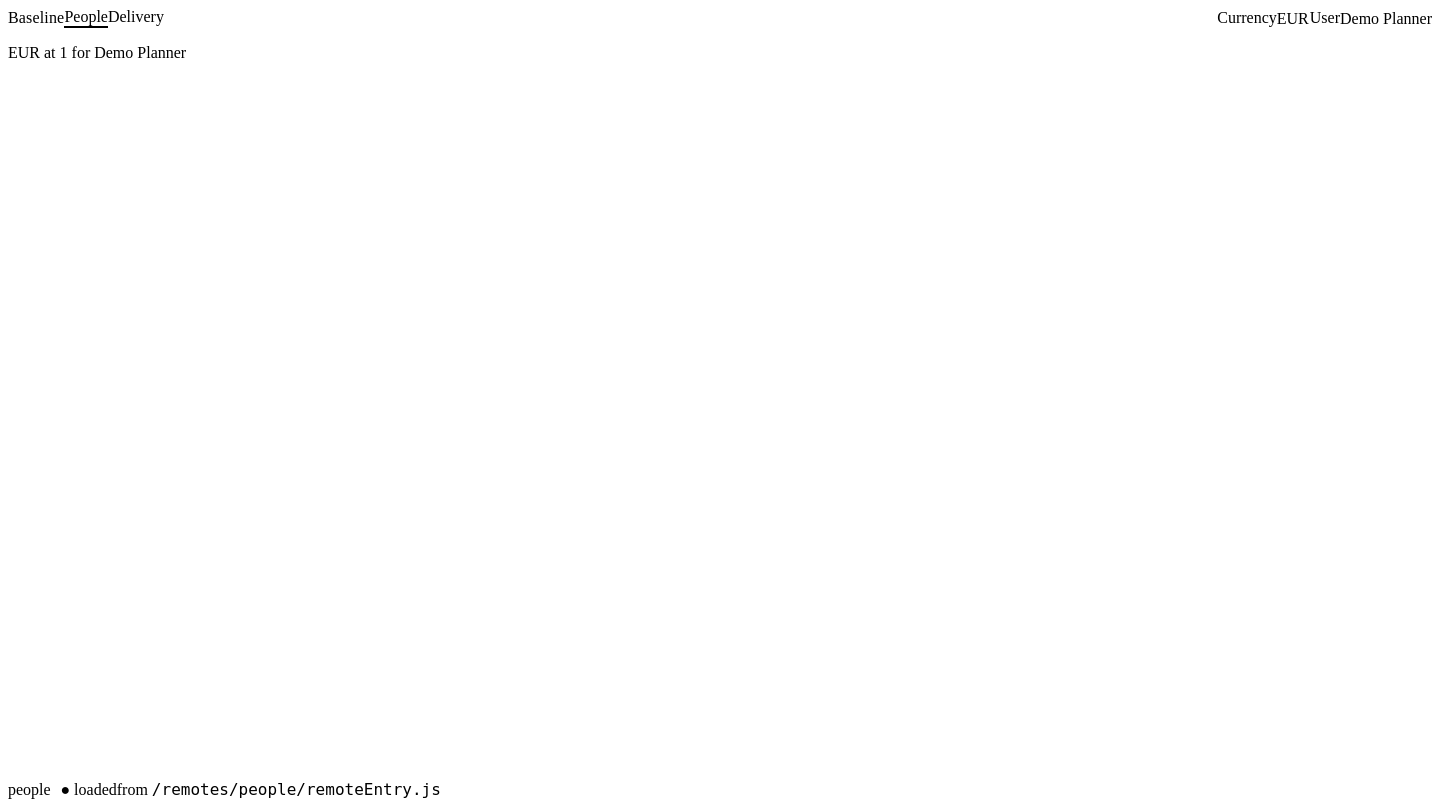
Scenario: the currency and user switchers › push a new currency into the mounted panel without remounting it
Expected: the text "EUR at 1 for Demo Planner" is shown, [8, 44, 186, 61]
Select "USD" in the dropdown labelled "Currency" at (1293, 18), box [1277, 10, 1310, 26]
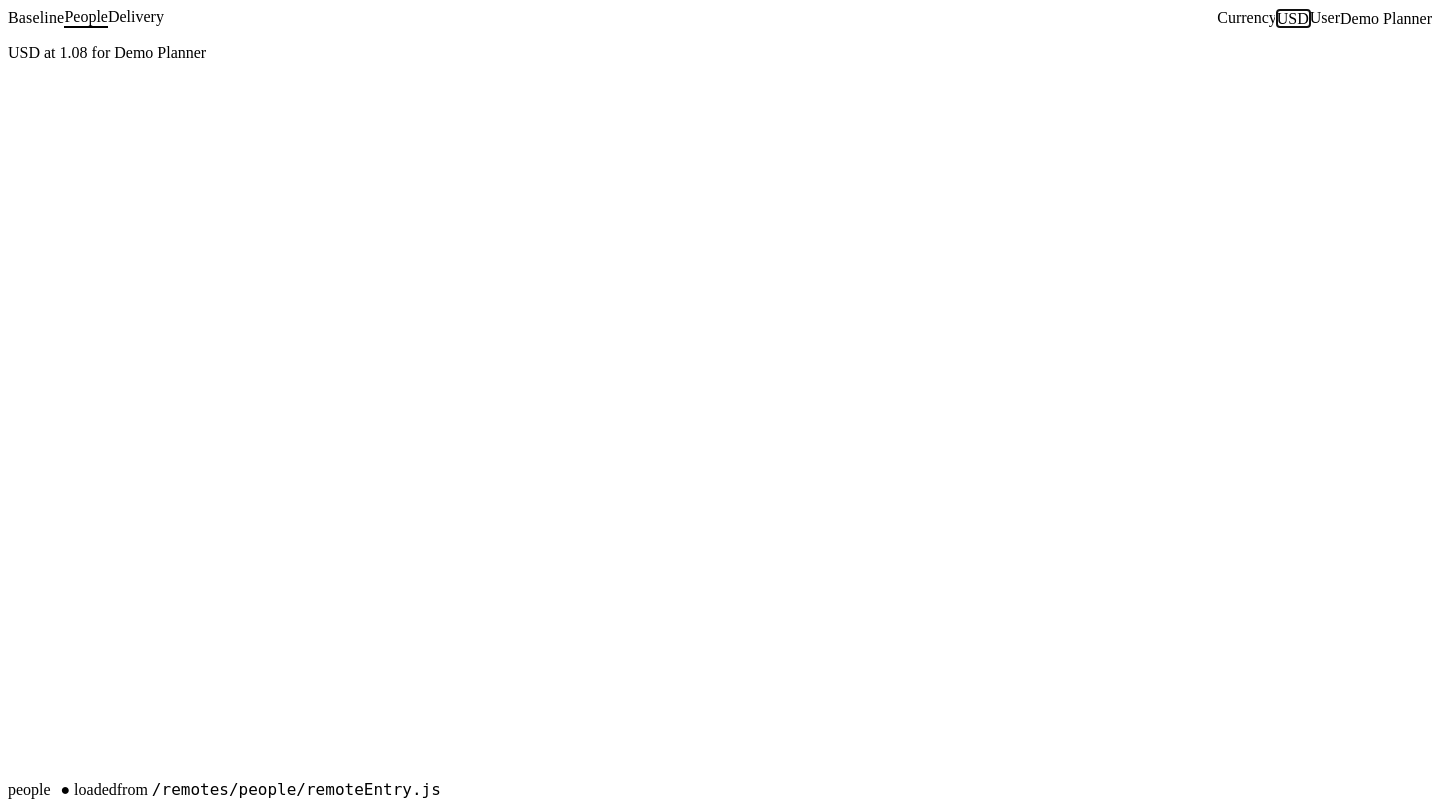
Now the text "USD at 1.08 for Demo Planner" is shown, box [8, 44, 206, 61]
